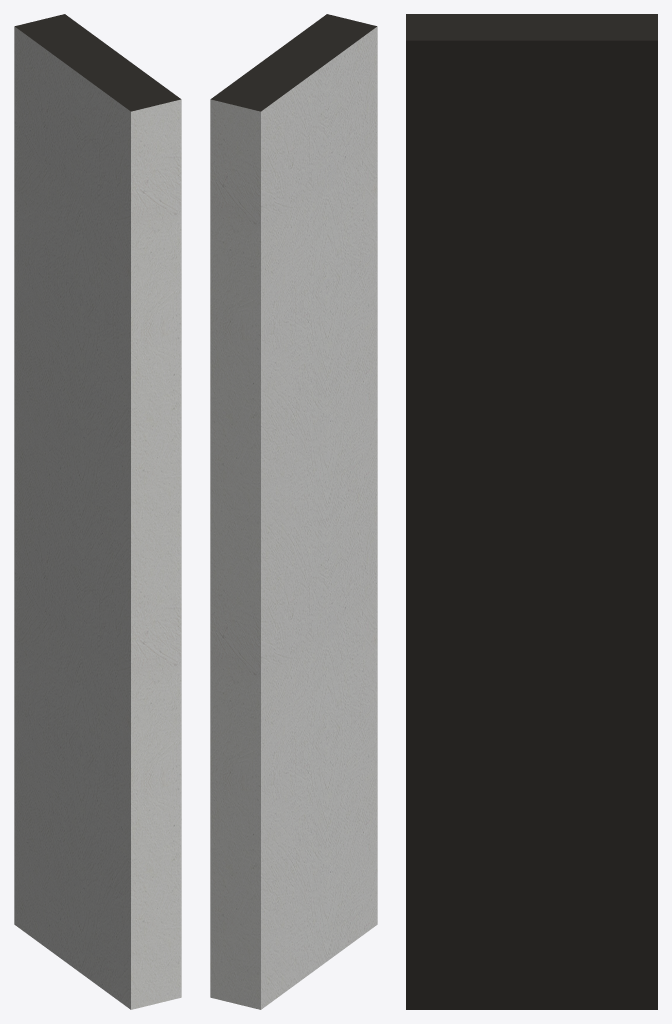
File: VPS_Wall_SM.fbx
3 renders of one model, left to right at view 1: azimuth 30°, elevation 25°; view 2: azimuth 150°, elevation 25°; view 3: azimuth 270°, elevation 25°, orthographic. The views are drawn at different scales.
Visible parts, largest first — view 1: GYM_Wall_Single_White; view 2: GYM_Wall_Single_White; view 3: GYM_Wall_Single_White.
Boxes of the visible parts, x1,y1,x2,y2 form: GYM_Wall_Single_White: (14, 14, 181, 1009); GYM_Wall_Single_White: (210, 14, 377, 1009); GYM_Wall_Single_White: (406, 14, 657, 1009).
Size of the model in its own units: 0.5 by 8.5 by 2.
Materials: 2 (1 with a texture image).
